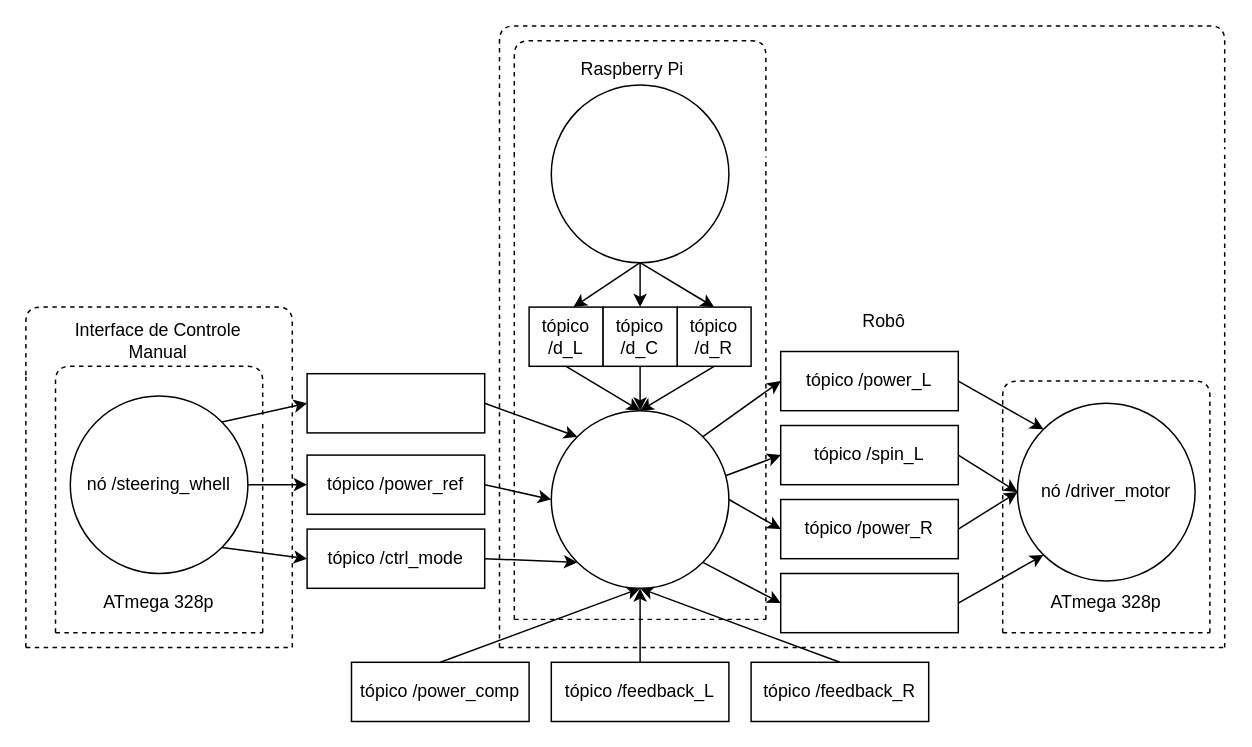
The diagram is 1252 pixels wide and 747 high, and some of its shapes have lost their labels. Each missing label, with the centre of its shape:
"nó /controller" belongs at (x=639, y=498).
"nó genérico para o controlador do sensor de imagem" belongs at (x=639, y=173).
"tópico /power_dif" belongs at (x=395, y=402).
"tópico /spin_R" belongs at (x=868, y=602).
